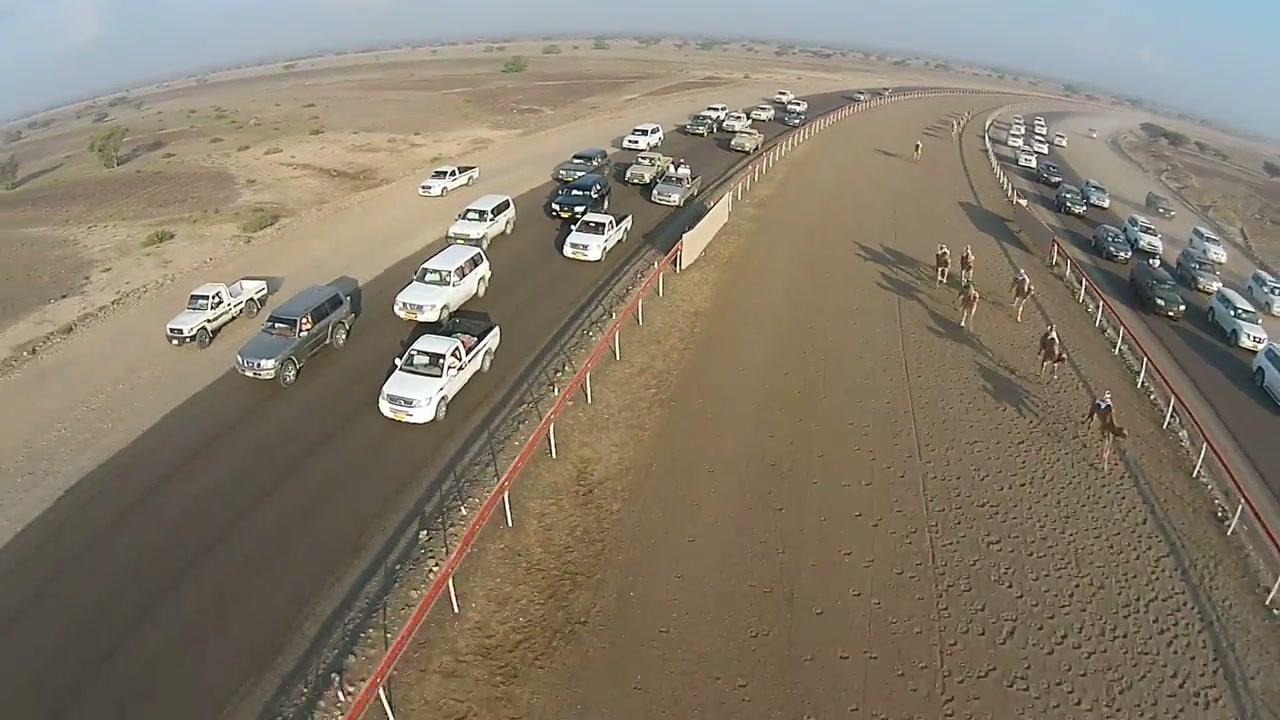animal_footprint: (890, 324, 1242, 711)
